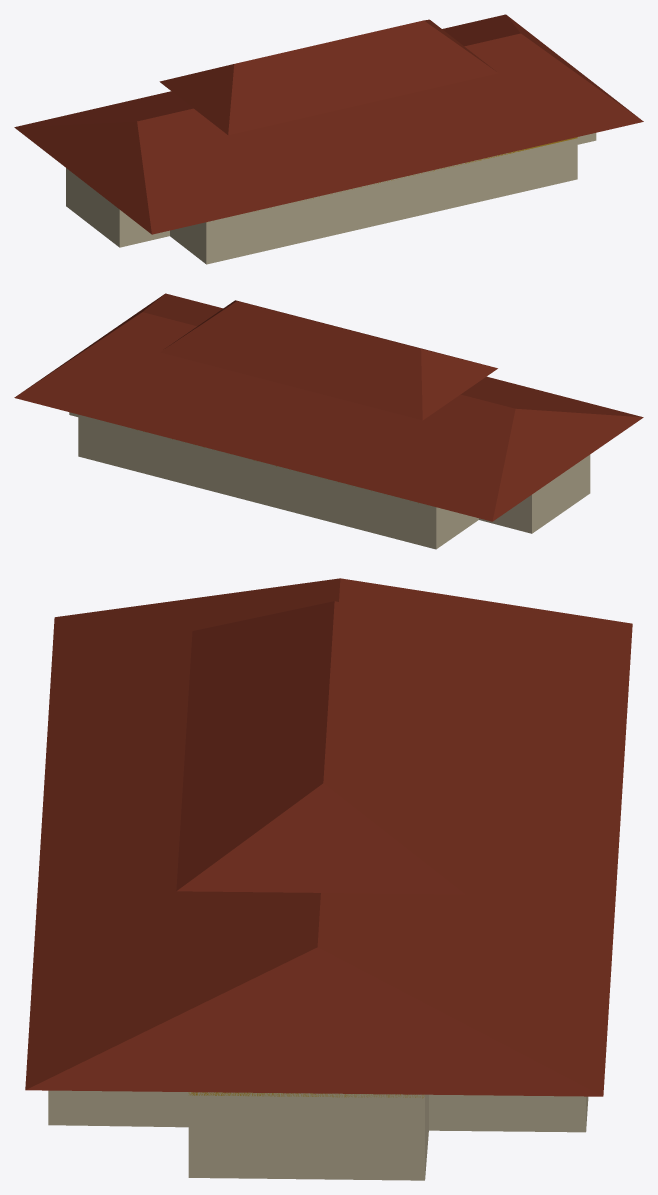
The model's file is anjung-seni-idrus-tintin-lod2.glb.
3 renders of one model, top to bottom at view 1: azimuth 30°, elevation 25°; view 2: azimuth 150°, elevation 25°; view 3: azimuth 270°, elevation 25°, orthographic. The views are drawn at different scales.
Visible parts, largest first — view 1: anjung-seni-idrus-tintin_LOD2; view 2: anjung-seni-idrus-tintin_LOD2; view 3: anjung-seni-idrus-tintin_LOD2.
Boxes of the visible parts, x1=… form: anjung-seni-idrus-tintin_LOD2: x1=14, y1=14, x2=643, y2=264; anjung-seni-idrus-tintin_LOD2: x1=14, y1=293, x2=643, y2=549; anjung-seni-idrus-tintin_LOD2: x1=25, y1=578, x2=632, y2=1180.
Size of the model in its own units: 87.36 by 22 by 46.77.
